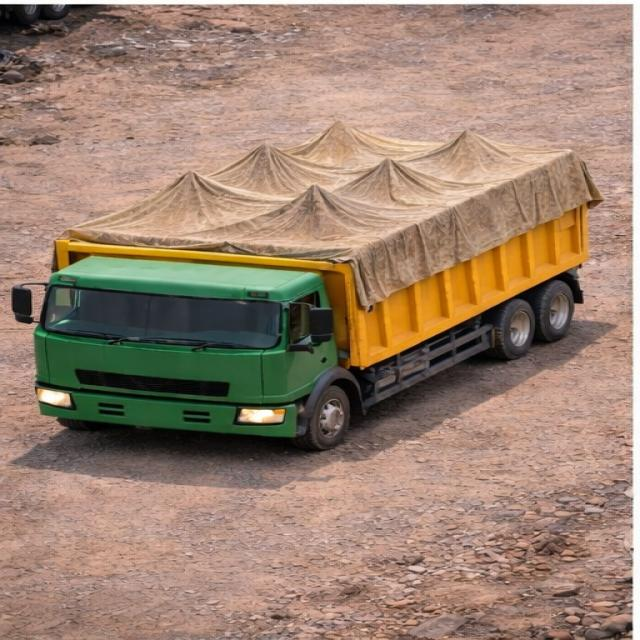trailer: (47, 122, 577, 264)
truck: (10, 94, 600, 455)
